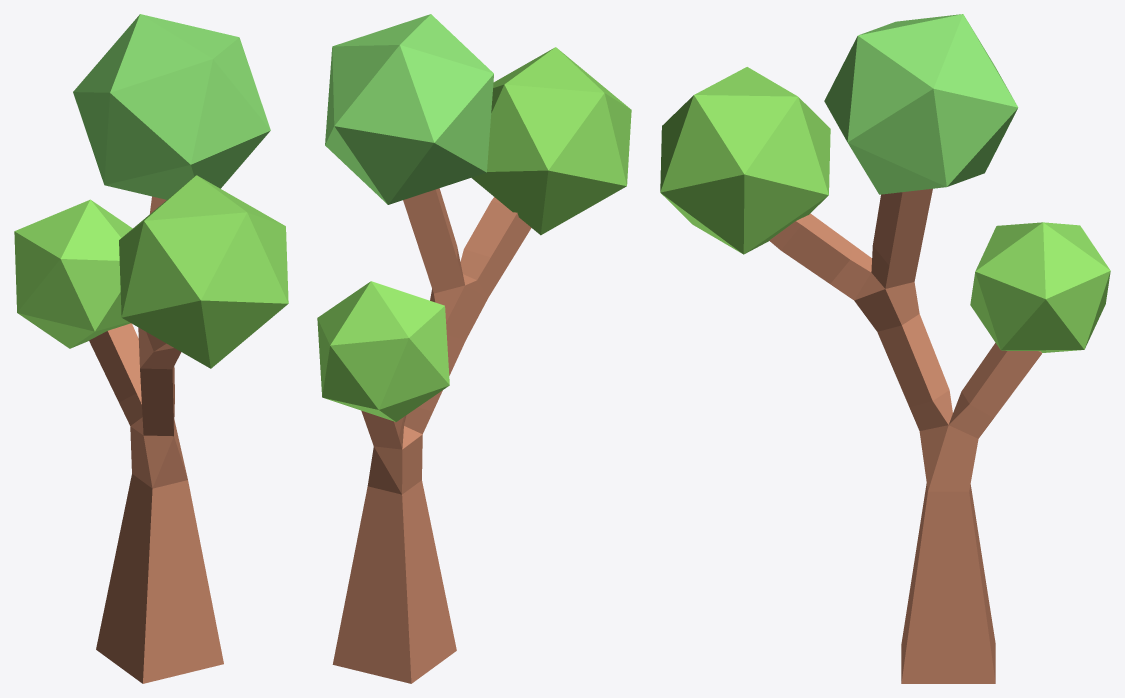
Rendered from Tree1.fbx.
3 views of the same model, side by side, from view 1: azimuth 30°, elevation 25°; view 2: azimuth 150°, elevation 25°; view 3: azimuth 270°, elevation 25° (orthographic). The views are drawn at different scales.
Visible parts, largest first — view 1: Cube, Icosphere, Icosphere.001, Icosphere.002; view 2: Cube, Icosphere, Icosphere.001, Icosphere.002; view 3: Cube, Icosphere, Icosphere.001, Icosphere.002.
Boxes of the visible parts, <box> form: Cube: <box>89,196,223,683</box>; Icosphere: <box>73,14,270,199</box>; Icosphere.001: <box>119,175,288,368</box>; Icosphere.002: <box>14,199,132,348</box>; Cube: <box>332,188,531,683</box>; Icosphere: <box>325,14,493,204</box>; Icosphere.001: <box>471,47,631,235</box>; Icosphere.002: <box>317,281,449,421</box>; Cube: <box>769,188,1041,683</box>; Icosphere: <box>824,14,1018,194</box>; Icosphere.001: <box>660,67,830,254</box>; Icosphere.002: <box>970,222,1110,352</box>.
Bounding box in the file's own units: 190 × 549 × 348.
